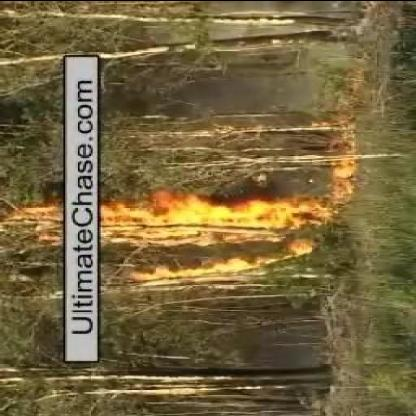foggia-v2-map80-epoch100 - v1 4323: (101, 193, 336, 235)
